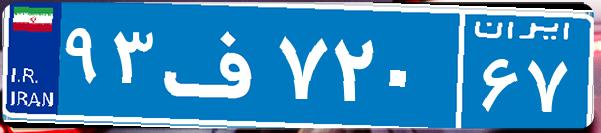0: (385, 28, 445, 110)
2: (330, 28, 385, 110)
3: (110, 28, 158, 105)
6: (475, 38, 525, 113)
7: (273, 28, 330, 110), (525, 38, 570, 115)
9: (57, 26, 110, 107)
ف: (158, 15, 273, 115)
